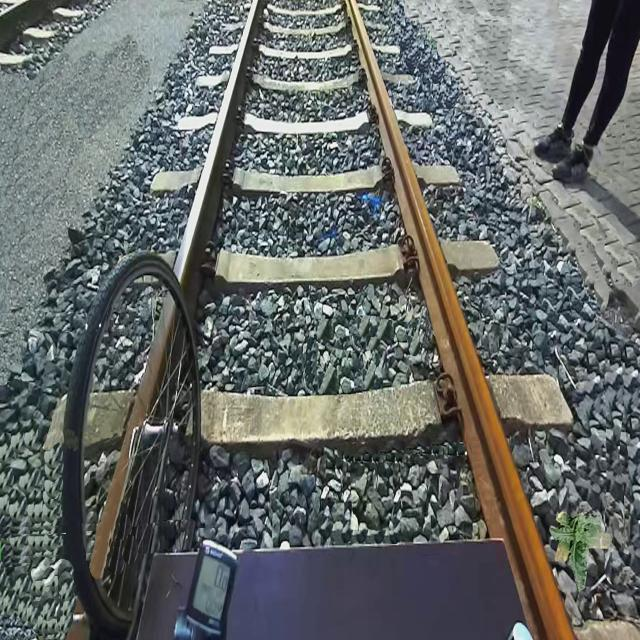Plant: (549, 512, 612, 595)
